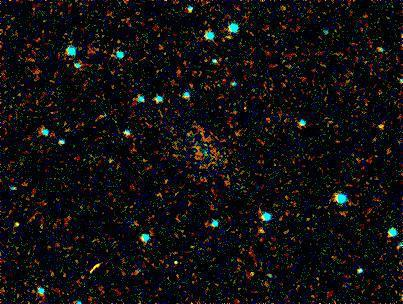star: (366, 109, 396, 139)
